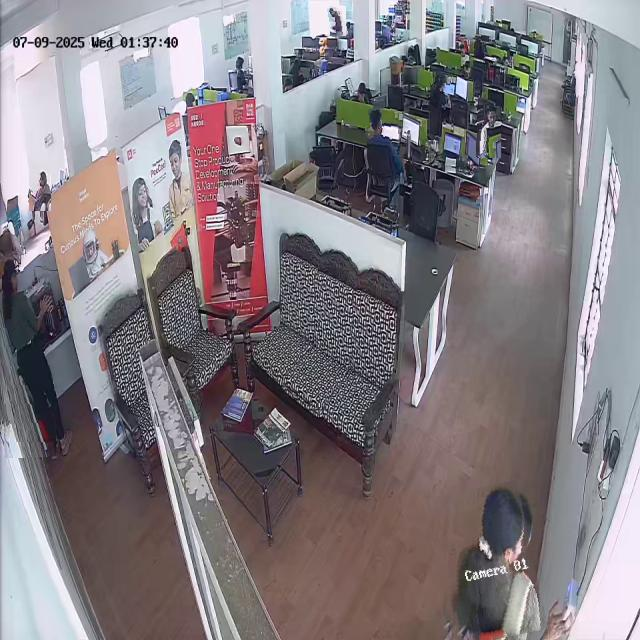person: (430, 484, 540, 640), (0, 253, 54, 457), (366, 108, 404, 184), (476, 106, 502, 158), (29, 169, 51, 211), (429, 72, 451, 112), (329, 5, 347, 37)
